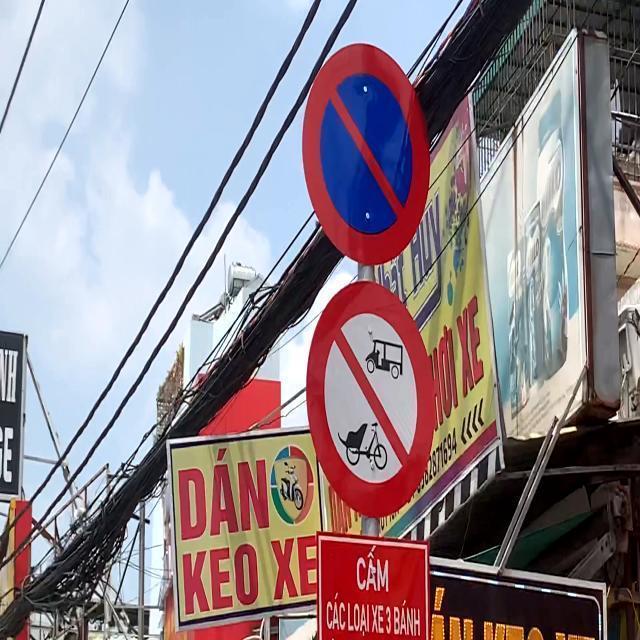131a-cam-do-xe: (303, 43, 431, 265)
